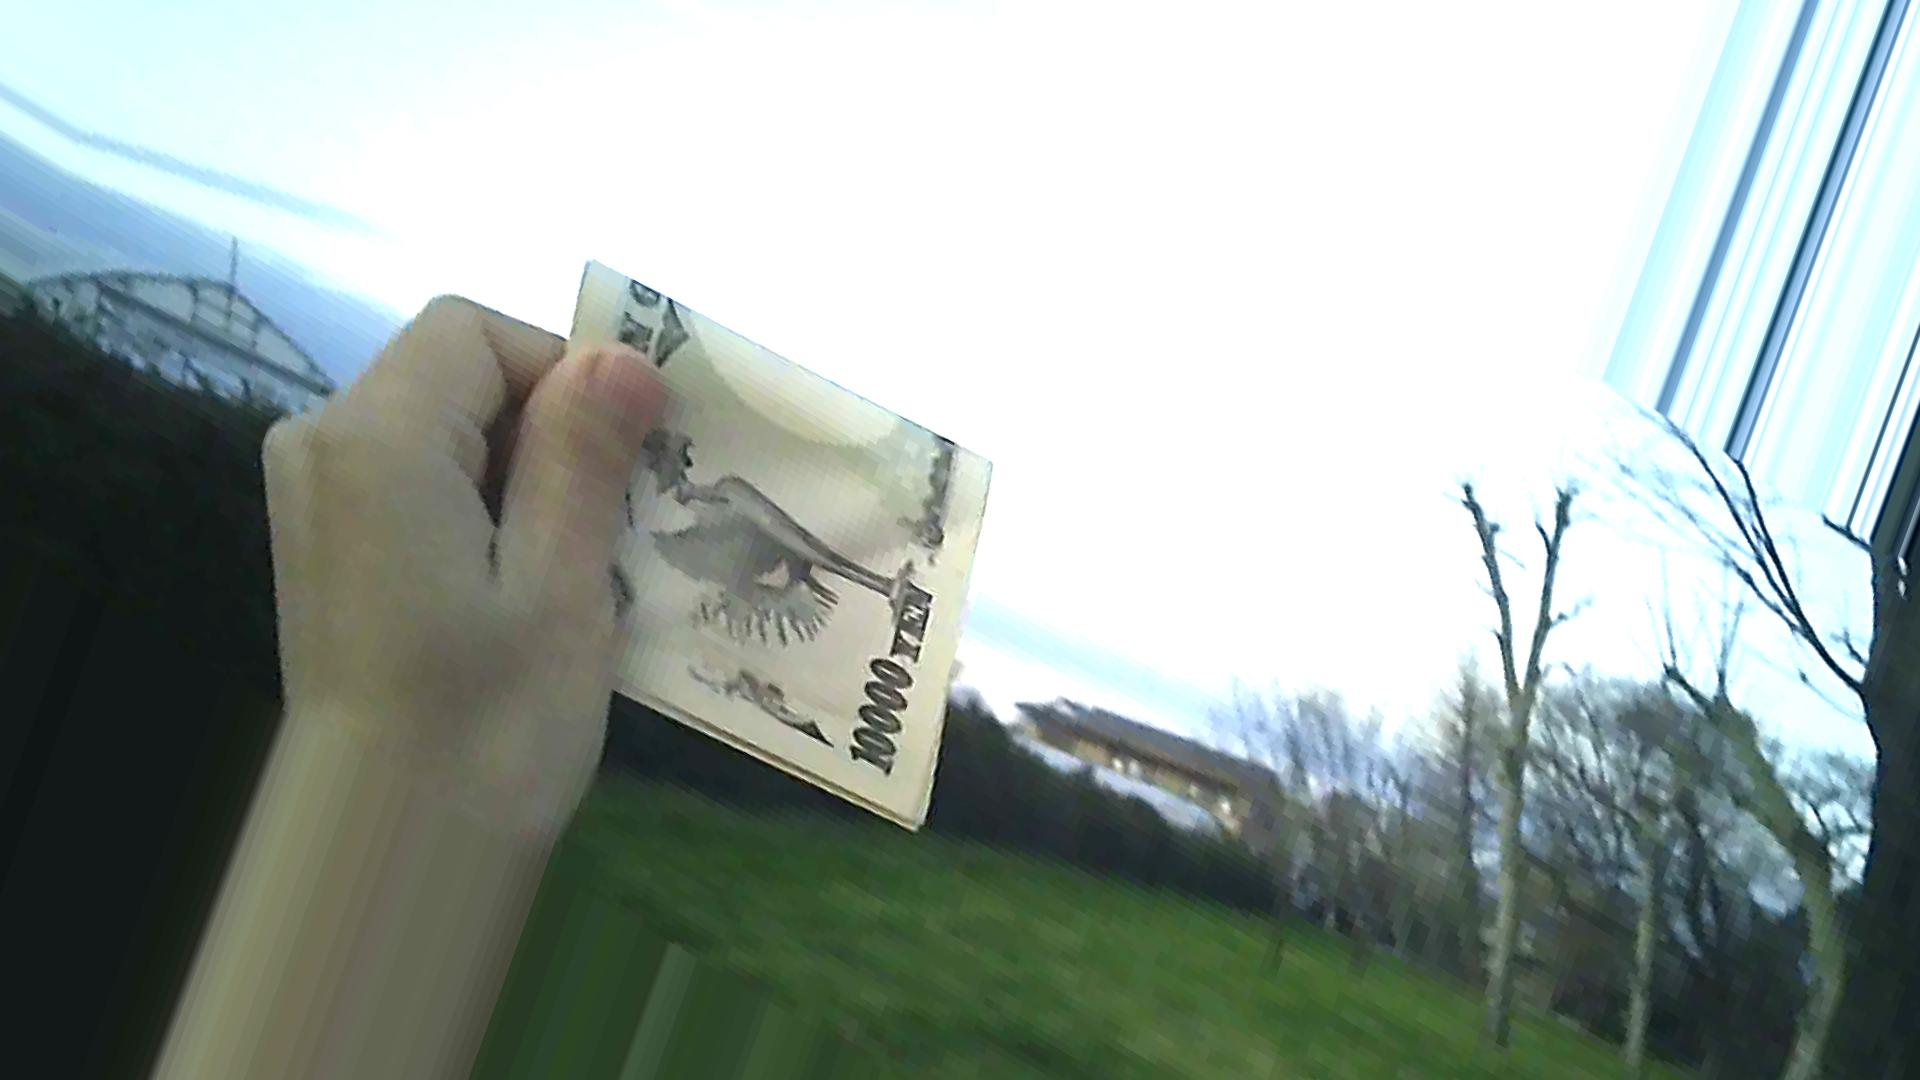10,000 Yen: (531, 258, 1022, 866)
